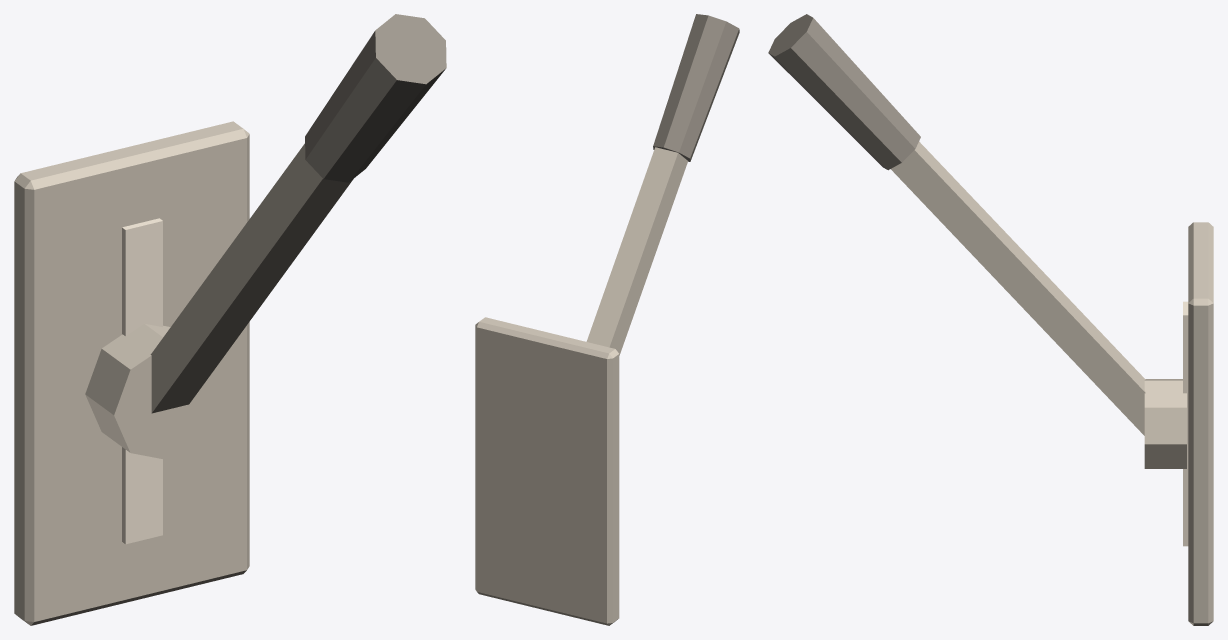
File: SM_VKI_Prop_Lever_Wall.fbx
3 views of the same model, side by side, from view 1: azimuth 30°, elevation 25°; view 2: azimuth 150°, elevation 25°; view 3: azimuth 270°, elevation 25° (orthographic). The views are drawn at different scales.
Visible parts, largest first — view 1: SM_VKI_Prop_Lever_Wall.001; view 2: SM_VKI_Prop_Lever_Wall.001; view 3: SM_VKI_Prop_Lever_Wall.001.
Part boxes in pixels (x1,y1,x2,y2): SM_VKI_Prop_Lever_Wall.001: (14,14,446,625); SM_VKI_Prop_Lever_Wall.001: (475,14,739,625); SM_VKI_Prop_Lever_Wall.001: (768,14,1213,625).
Bounding box in the file's own units: 0.18 × 0.5919 × 0.4191.
